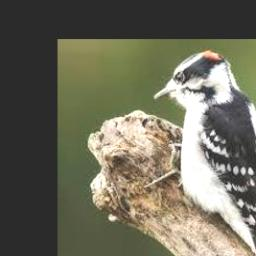Woodpecker: (143, 49, 256, 256)
